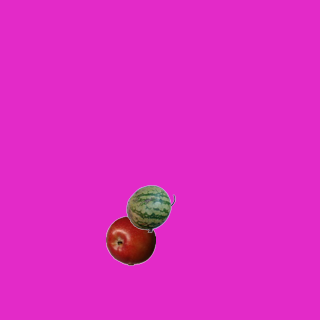Apple Braeburn: (105, 215, 155, 265)
Watermelon: (125, 183, 175, 233)
